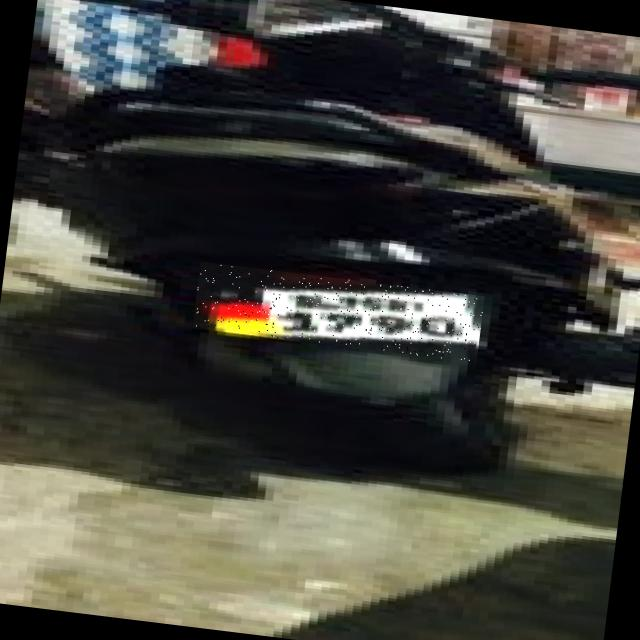Plate: (193, 262, 485, 363)
